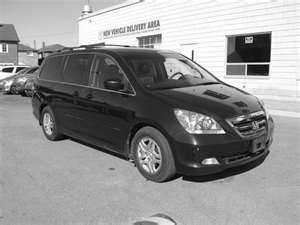car: (31, 43, 274, 184)
